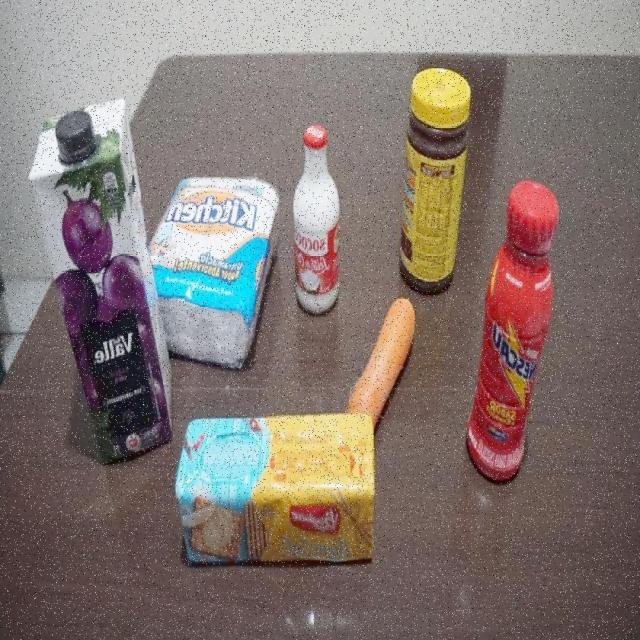Carrot: (340, 294, 417, 417)
ChocolateMilk: (464, 177, 560, 481)
ChocolatePowder: (394, 65, 471, 295)
CoconutMilk: (292, 123, 340, 319)
Cracker: (172, 412, 376, 570)
Napkin: (138, 173, 280, 370)
